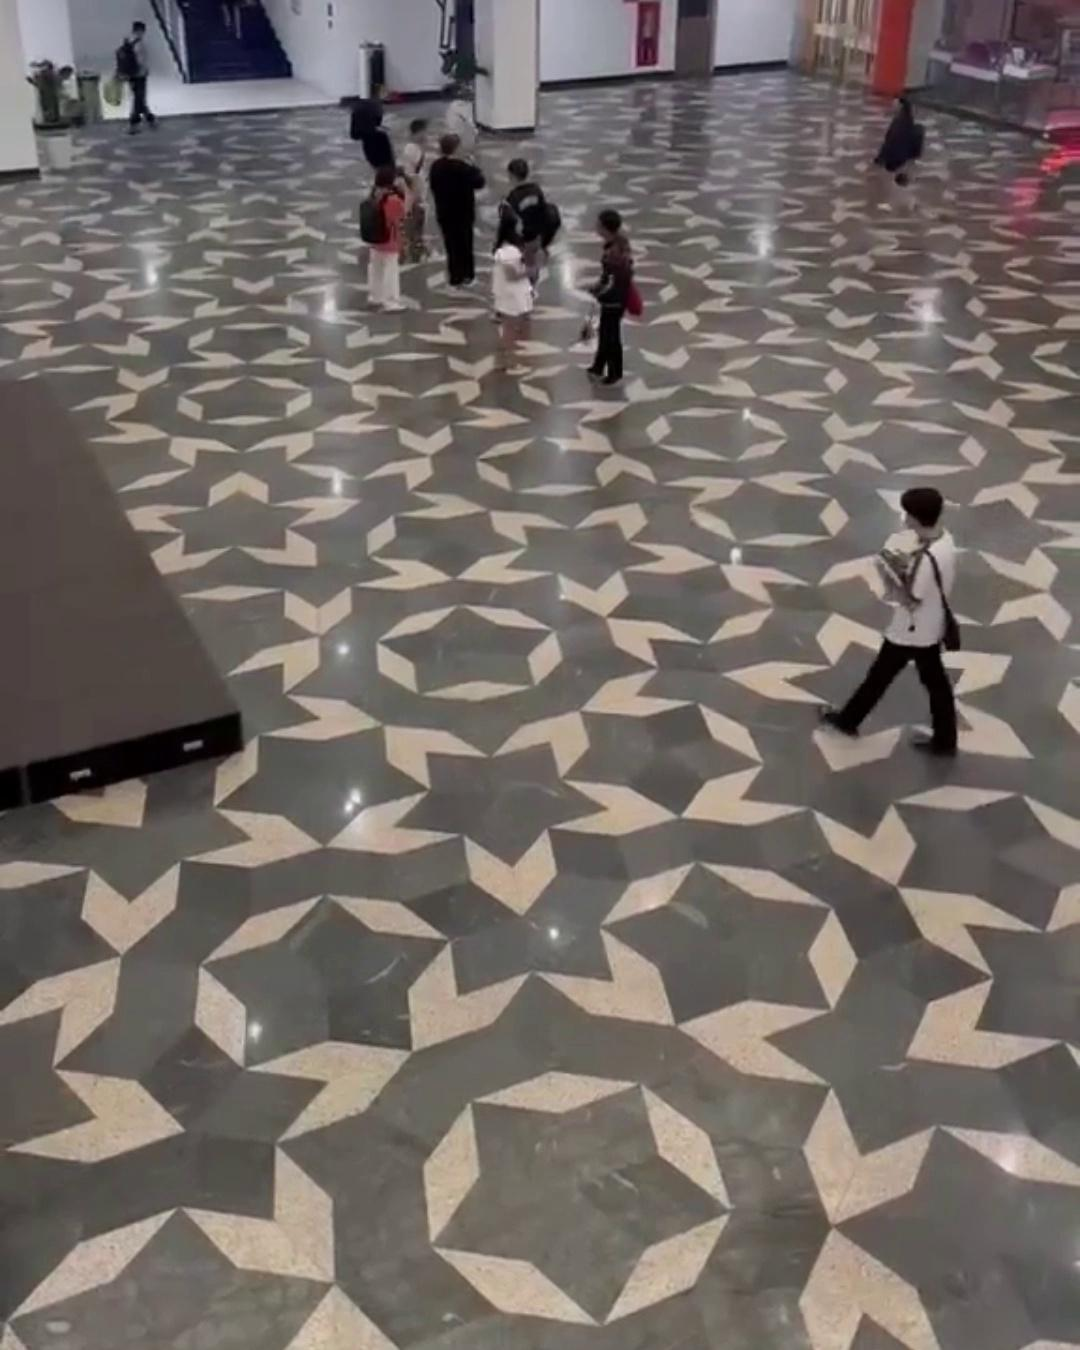your_class: (822, 463, 998, 791), (572, 203, 665, 387), (853, 80, 950, 253), (100, 8, 184, 155), (508, 143, 560, 355), (487, 208, 546, 387), (357, 145, 410, 305), (435, 123, 482, 301), (390, 108, 434, 266)
